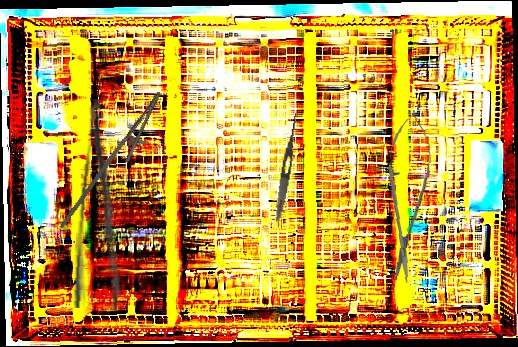Dressing Forceps: (69, 98, 139, 312), (273, 112, 300, 222)
Micro Scissor: (379, 111, 435, 285)
Needle Holder: (59, 81, 173, 245)
